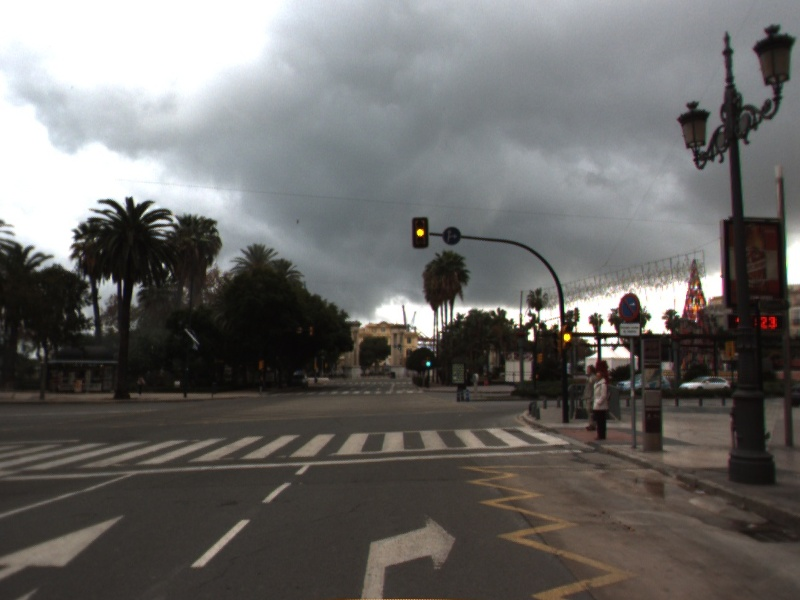RIGHT: (358, 507, 460, 600)
STRAIGHT: (1, 510, 131, 582)
